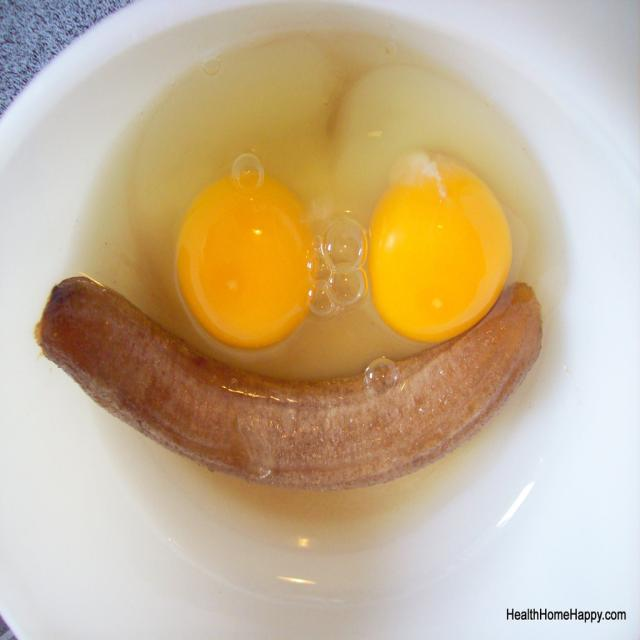Egg: (76, 25, 562, 386)
